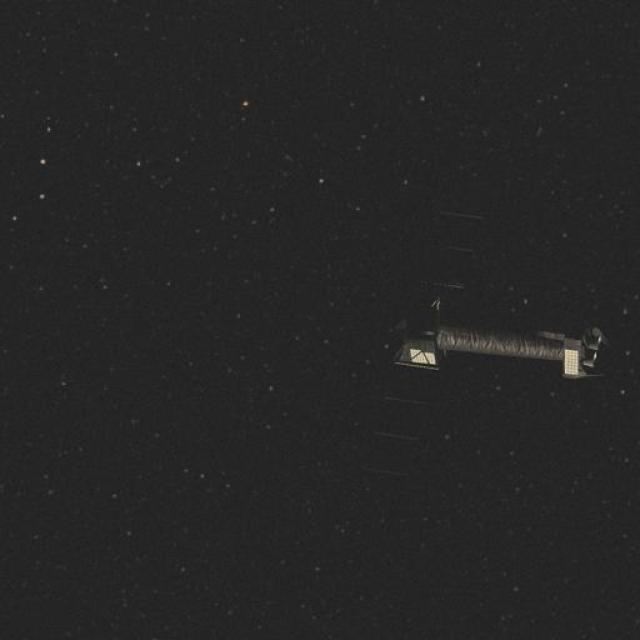xmm_newton: (355, 275, 640, 397)
